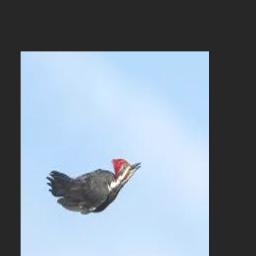Woodpecker: (45, 158, 141, 213)
